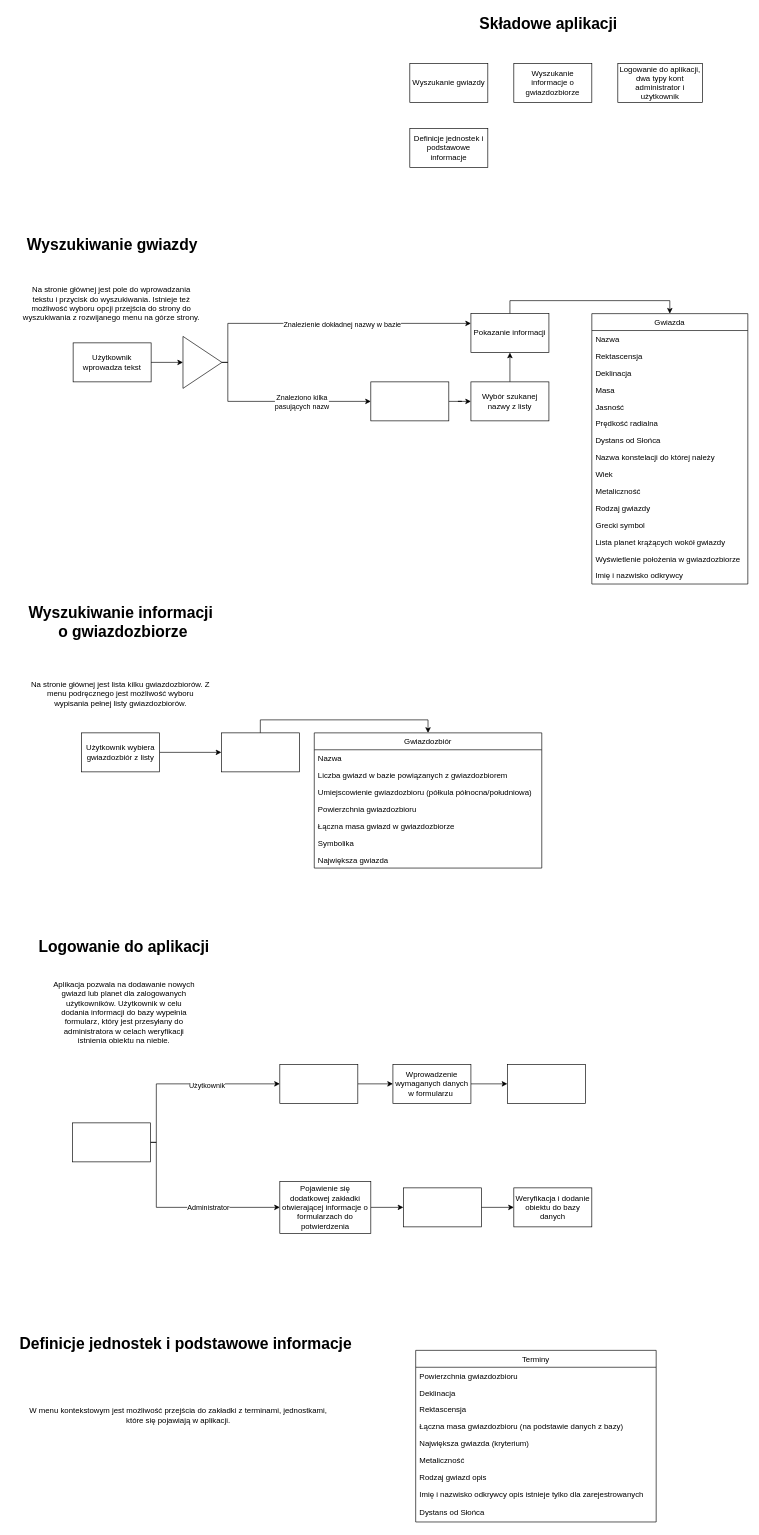
This 759x1535 diagram has some shape labels left out. Here are the shapes that lost their labels. From the top down, the box of each, then its label:
(182, 336, 222, 388): Wciśnięcie przycisku "Szukaj"
(370, 381, 449, 421): Wypisanie listy nazw zawierających podany tekst
(221, 732, 299, 772): Wypisanie informacji o gwiazdozbiorze
(279, 1064, 358, 1103): Pojawienie się dodatkowej opcji otwierającej formularz
(507, 1064, 585, 1103): Wysłanie do formularza do administratora
(72, 1122, 150, 1162): Wybór pola wpisania loginu i hasła
(403, 1187, 481, 1227): Wybór formularza i wyświetlenie informacji w nim zawartych
